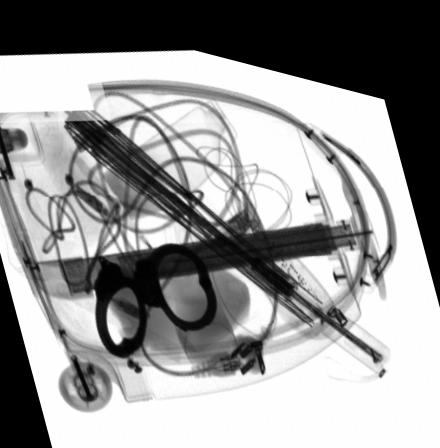HandCuffs: (93, 231, 218, 352)
